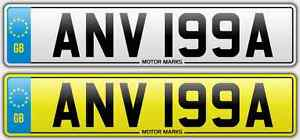number_plate: (2, 1, 297, 68), (3, 72, 298, 137)
